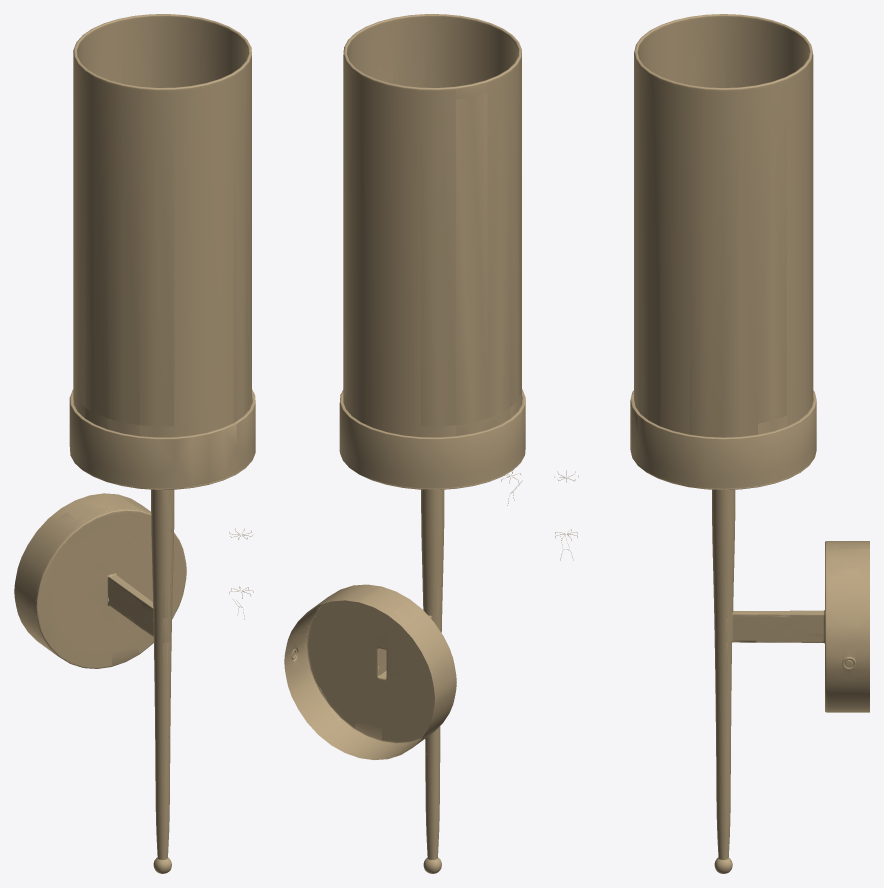
The model's file is vertical-sconce.glb.
3 views of the same model, side by side, from view 1: azimuth 30°, elevation 25°; view 2: azimuth 150°, elevation 25°; view 3: azimuth 270°, elevation 25° (orthographic).
Parts seen in each view (by area): view 1: glass_body, lamp_body; view 2: glass_body, lamp_body; view 3: glass_body, lamp_body.
Part boxes in pixels (x1,y1,x2,y2): glass_body: (73, 14, 251, 437); lamp_body: (14, 389, 255, 873); glass_body: (343, 14, 521, 437); lamp_body: (284, 389, 525, 873); glass_body: (634, 14, 813, 437); lamp_body: (630, 390, 869, 873).
Size of the model in its own units: 0.0969 by 0.4714 by 0.1642.
